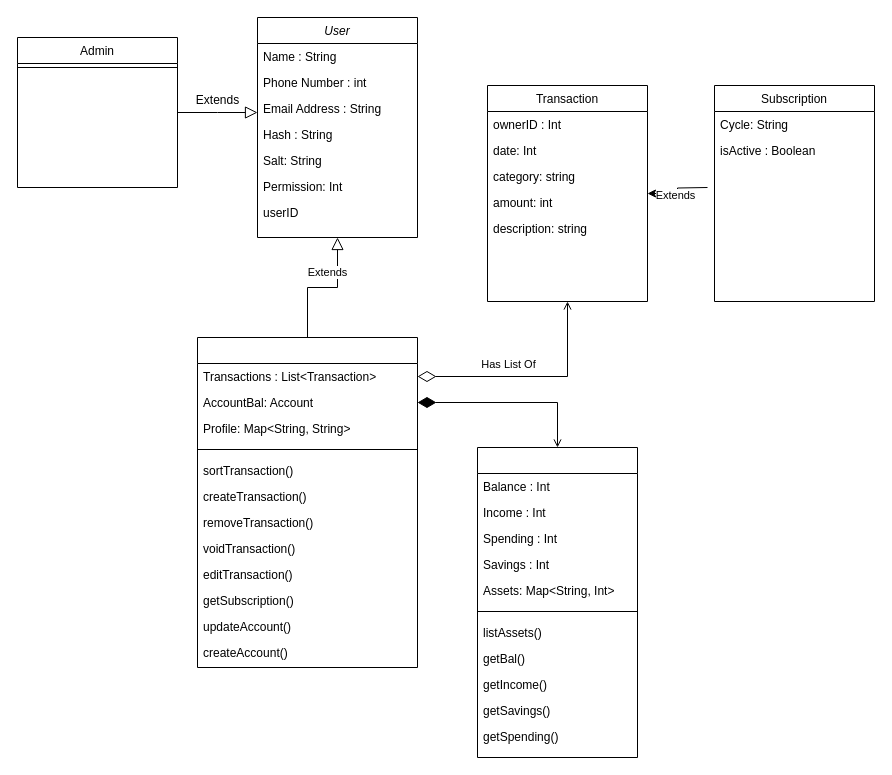
Image size: 892x775. Some labels were removed from this diagram. The box of each missing label's shape, as (x1, y1, x2, y2) in pixels:
Account: (476, 446, 638, 758)
Customer: (196, 336, 418, 668)
